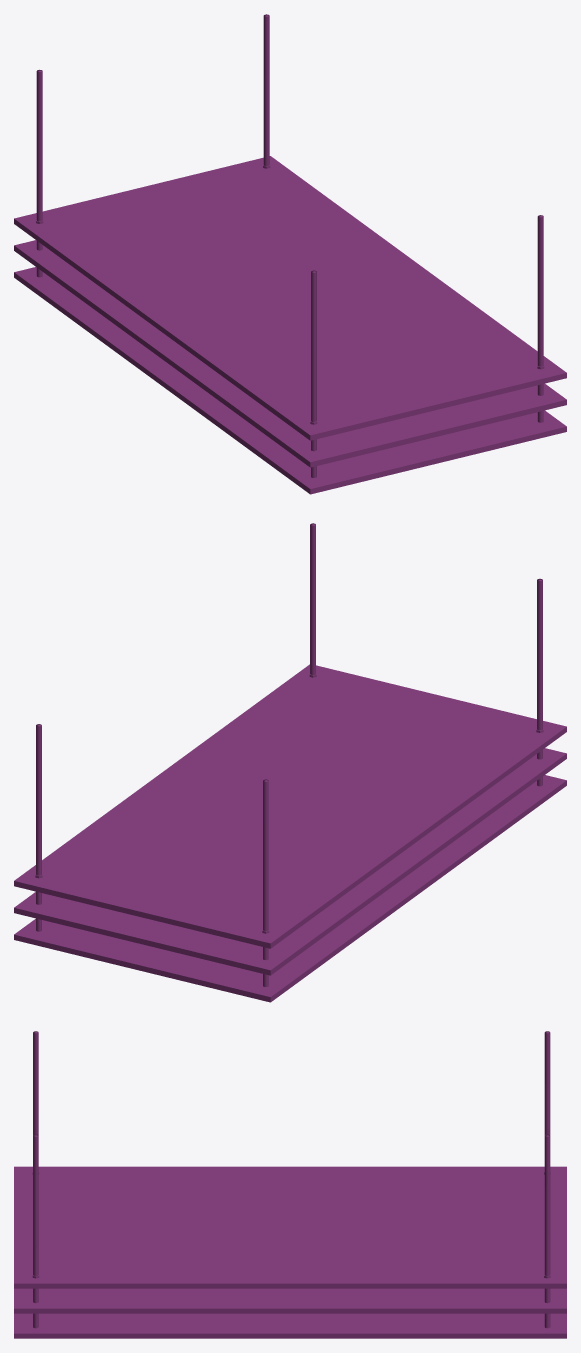
File: CeilingLamp.fbx
3 views of the same model, one above another, from view 1: azimuth 30°, elevation 25°; view 2: azimuth 150°, elevation 25°; view 3: azimuth 270°, elevation 25° (orthographic). The views are drawn at different scales.
Parts seen in each view (by area): view 1: Ceiling_Light1; view 2: Ceiling_Light1; view 3: Ceiling_Light1.
Boxes of the visible parts, x1=… form: Ceiling_Light1: x1=14, y1=14, x2=566, y2=494; Ceiling_Light1: x1=14, y1=523, x2=566, y2=1002; Ceiling_Light1: x1=14, y1=1031, x2=566, y2=1338.
Bounding box in the file's own units: 0.5 × 0.4 × 1.
